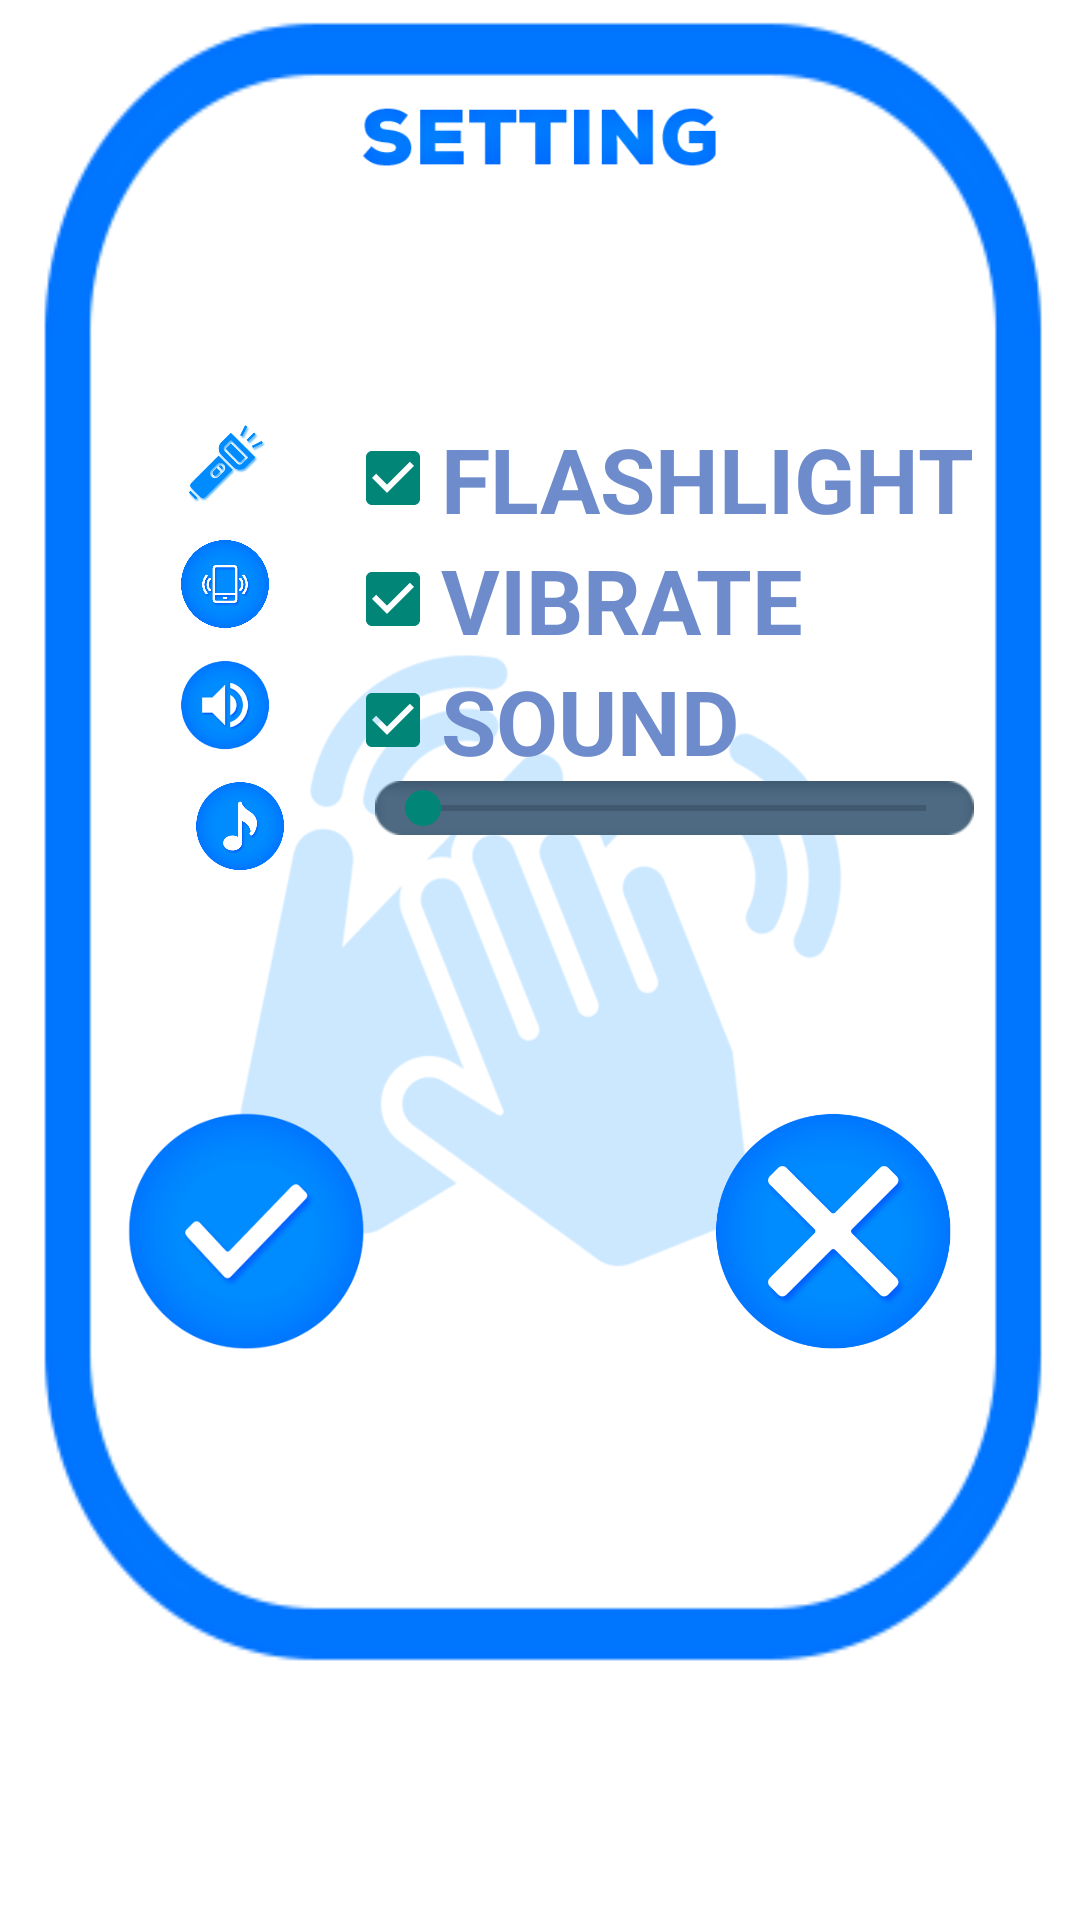

Where icons sit on this 1080 x 1920 app screen, as {"x1": x1, "y1": y1, "x2": x2, "y2": y2}:
music: {"x1": 196, "y1": 782, "x2": 284, "y2": 870}
